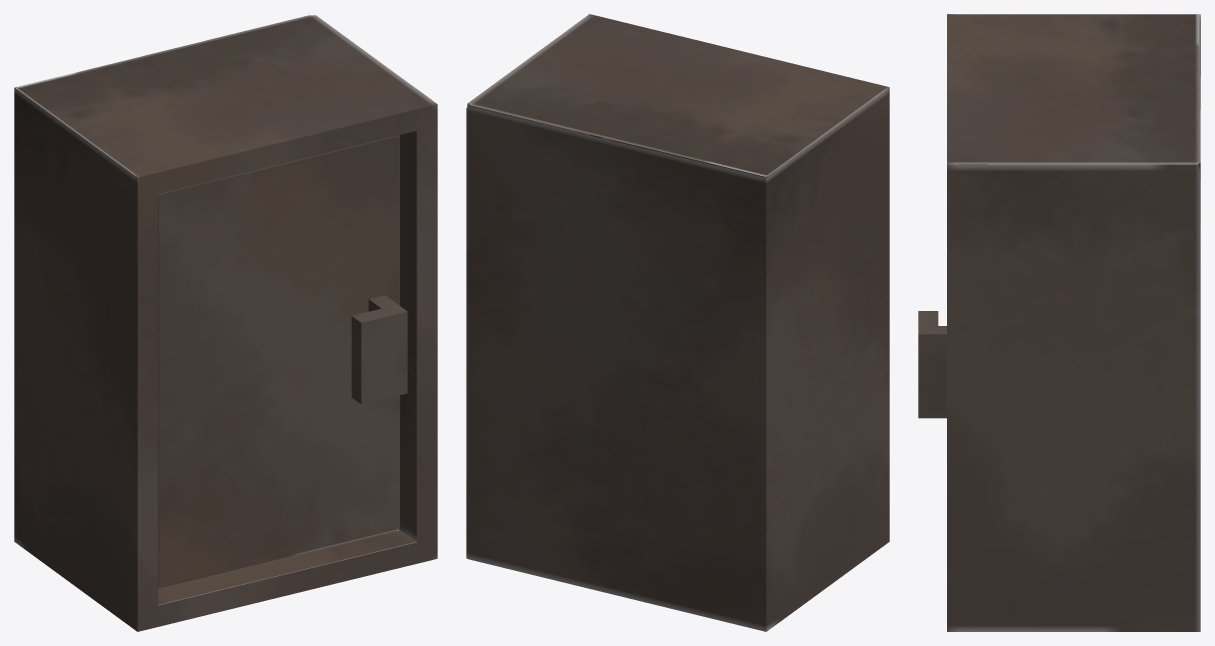
The model's file is contador2.fbx.
3 renders of one model, left to right at view 1: azimuth 30°, elevation 25°; view 2: azimuth 150°, elevation 25°; view 3: azimuth 270°, elevation 25°, orthographic. The views are drawn at different scales.
Visible parts, largest first — view 1: Contador 02; view 2: Contador 02; view 3: Contador 02.
Boxes of the visible parts, x1,y1,x2,y2 form: Contador 02: (14,15,437,631); Contador 02: (466,14,889,631); Contador 02: (918,14,1200,631).
Size of the model in its own units: 109 by 158 by 86.47.
